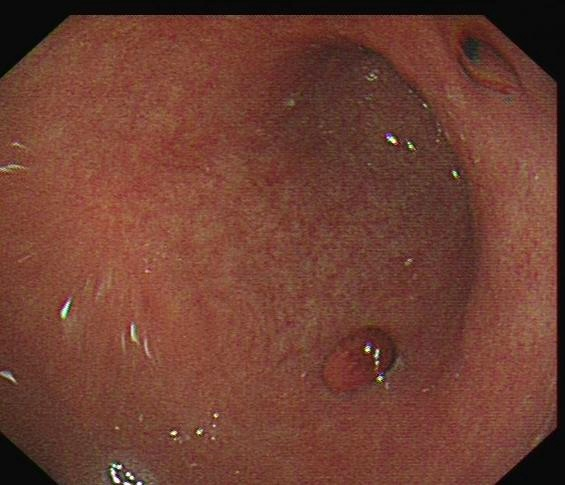Polyp: (316, 324, 403, 402)
